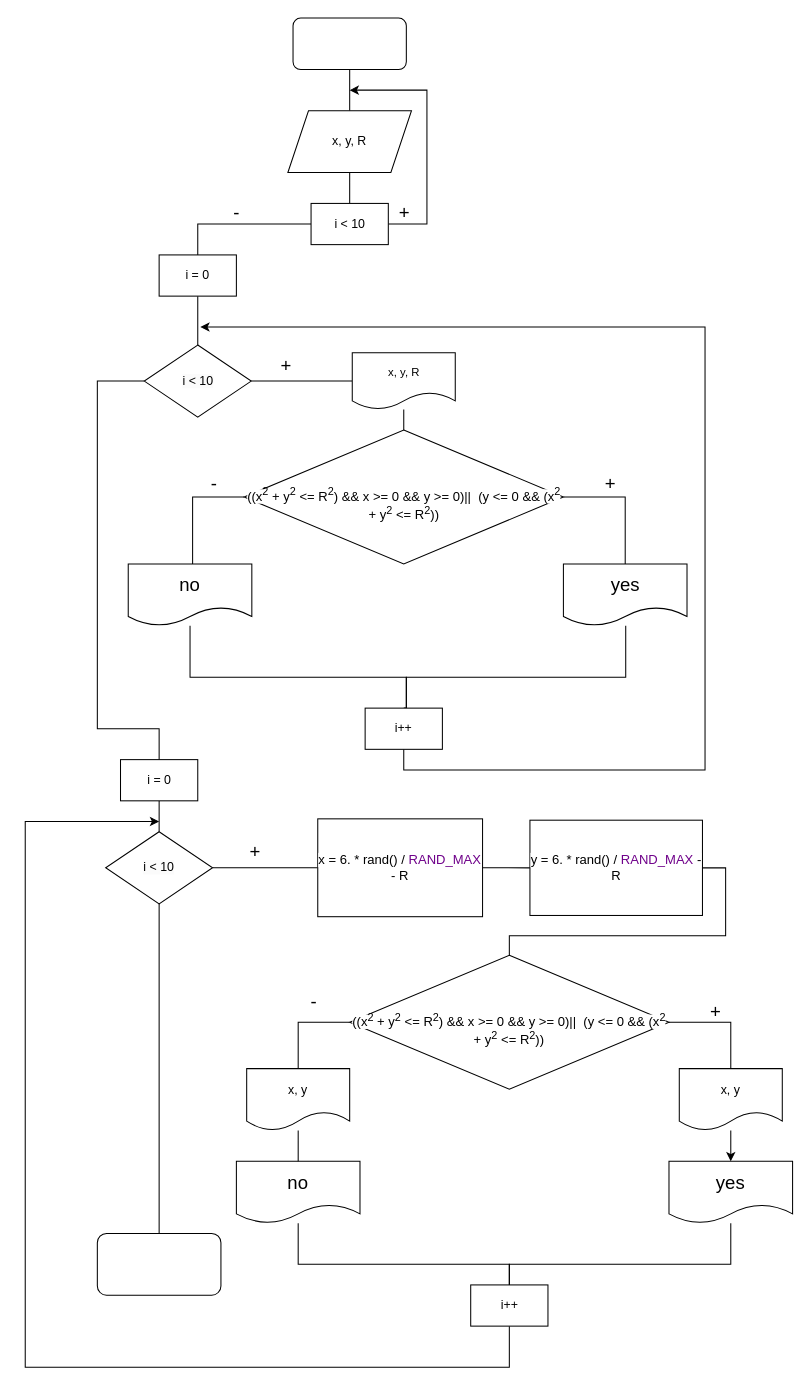
Image size: 811x1394. Some labels were removed from this diagram. The shapes that lost their labels are listed below. From the top down, each one's centre as x and y in pixels, then its label:
the point at 349,43: Початок
the point at 158,1263: Кінець
